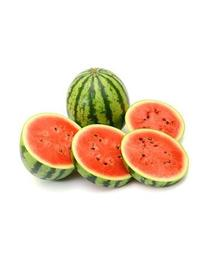watermelon: (14, 95, 190, 186), (63, 68, 130, 132)
